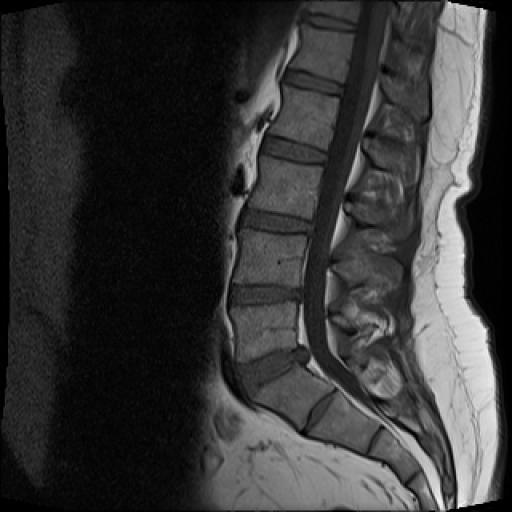L1: (292, 22, 356, 82)
L2: (269, 85, 339, 150)
L3: (249, 154, 322, 220)
L4: (234, 232, 304, 286)
L5: (231, 302, 296, 360)
S1: (254, 363, 333, 430)
